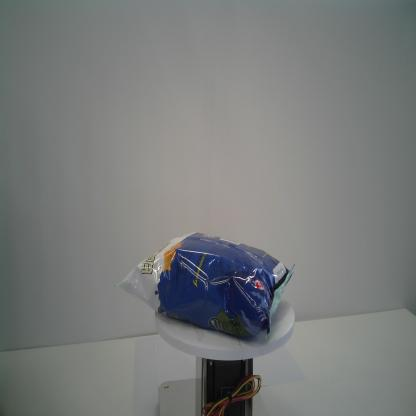Puffed Food: (112, 231, 296, 343)
